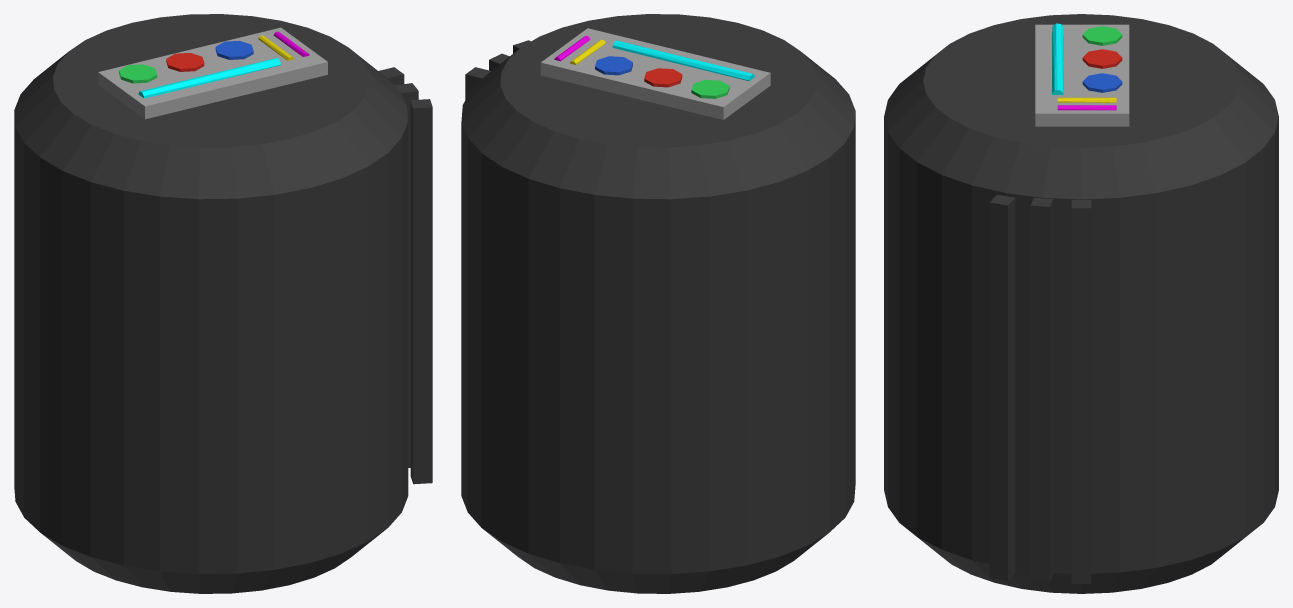
File: Sci Fi Barrel.glb
3 renders of one model, left to right at view 1: azimuth 30°, elevation 25°; view 2: azimuth 150°, elevation 25°; view 3: azimuth 270°, elevation 25°, orthographic.
Visible parts, largest first — view 1: Cylinder, Panel, Cube.002, Cube.001; view 2: Cylinder, Panel; view 3: Cylinder, Cube.002, Panel, Cube.001, Cube.
Boxes of the visible parts, box(x1,y1,x2,y2) form: Cylinder: box(14, 14, 408, 593); Panel: box(98, 27, 327, 119); Cube.002: box(410, 99, 432, 484); Cube.001: box(395, 83, 418, 467); Cylinder: box(461, 14, 855, 593); Panel: box(540, 28, 770, 119); Cylinder: box(884, 14, 1278, 593); Cube.002: box(989, 194, 1015, 580); Panel: box(1035, 23, 1129, 126); Cube.001: box(1030, 197, 1053, 582); Cube: box(1071, 200, 1091, 583).
Size of the model in its own units: 2.1 by 2.6 by 2.
